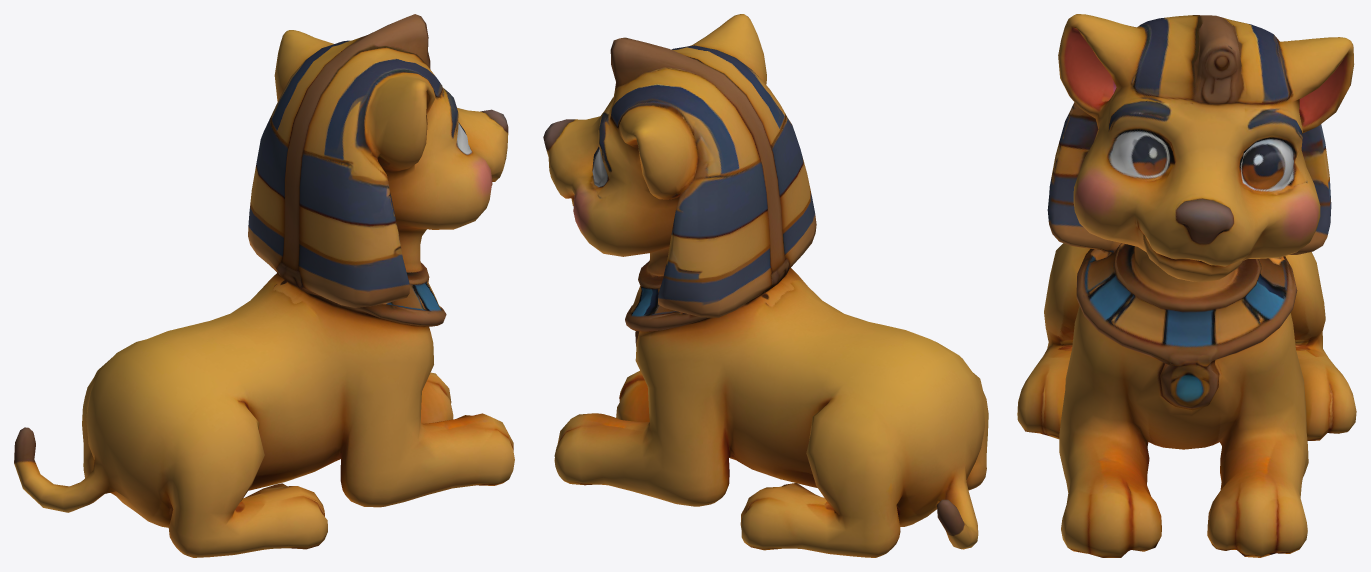
The model's file is tripo_convert_8bd4d9d5-78c8-4a71-9b3a-ae542db63192.fbx.
The picture shows the model from 3 angles, left to right: view 1: azimuth 30°, elevation 25°; view 2: azimuth 150°, elevation 25°; view 3: azimuth 270°, elevation 25°; orthographic projection. The views are drawn at different scales.
Visible parts, largest first — view 1: tripo_node_8bd4d9d5; view 2: tripo_node_8bd4d9d5; view 3: tripo_node_8bd4d9d5.
Boxes of the visible parts, box(x1,y1,x2,y2) form: tripo_node_8bd4d9d5: box(14, 14, 514, 557); tripo_node_8bd4d9d5: box(543, 14, 988, 557); tripo_node_8bd4d9d5: box(1017, 14, 1356, 557).
Bounding box in the file's own units: 99.75 × 90.19 × 55.31.
Materials: 1 (1 with a texture image).
